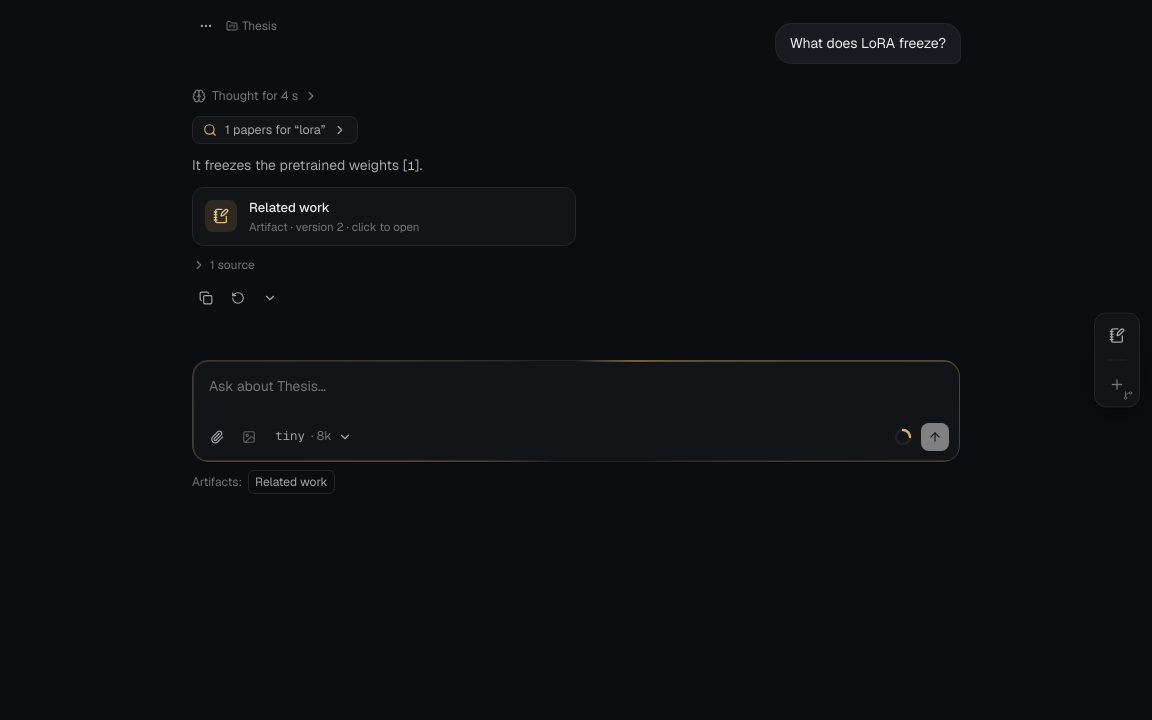
Test: ChatPage › fades out image attaching for a model that reads text only
expect the button named "Attach images" is disabled: met, box top-left (235, 423), bottom-right (263, 451)
expect the button named "Attach" is enabled: met, box top-left (203, 423), bottom-right (231, 451)
Click the button titled "Model, context and effort" at (313, 437), box top-left (267, 423), bottom-right (360, 451)
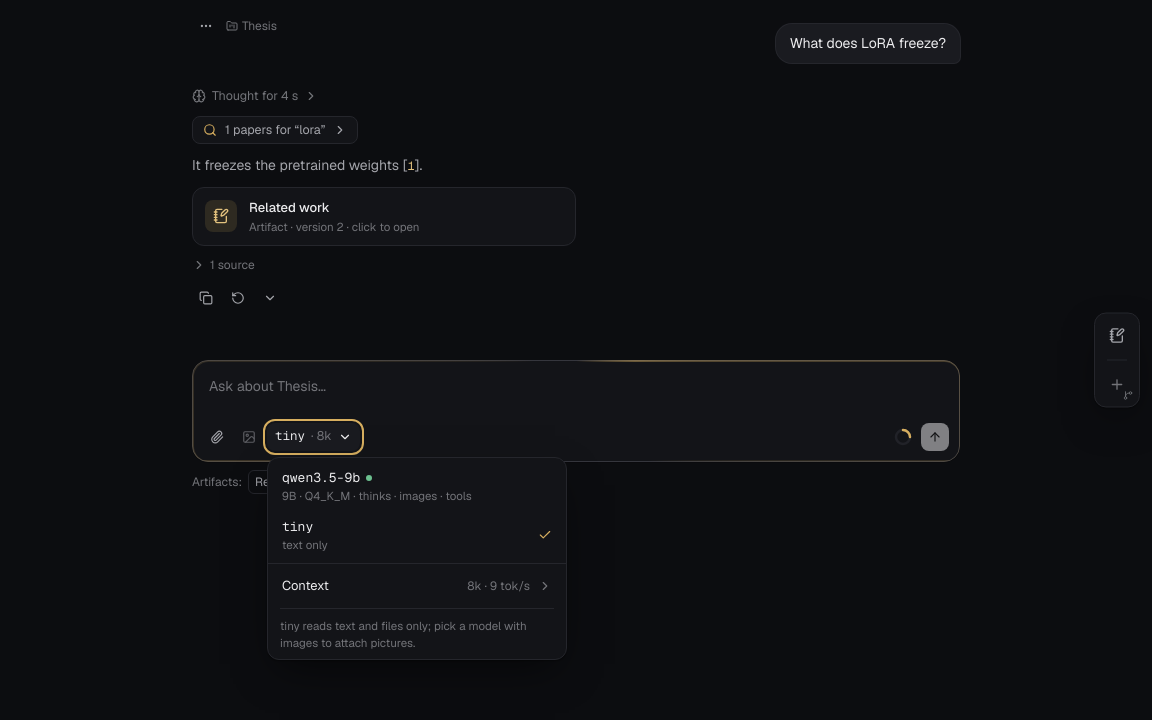
expect the radio button labelled "tiny text only" is shown: met, box top-left (272, 510), bottom-right (562, 559)
expect the text "tiny reads text and files only" is shown: met, box top-left (280, 608), bottom-right (554, 655)
